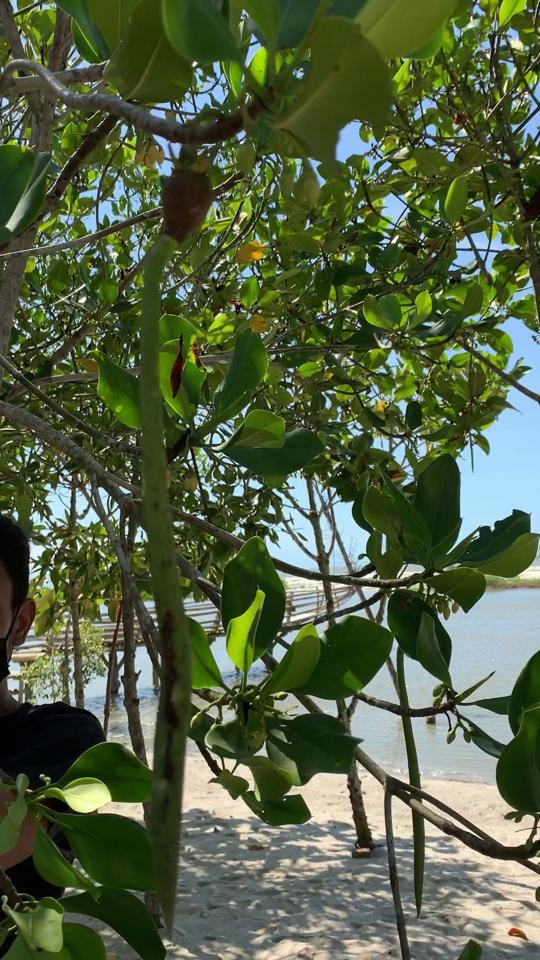setengah matang: (131, 127, 228, 938)
